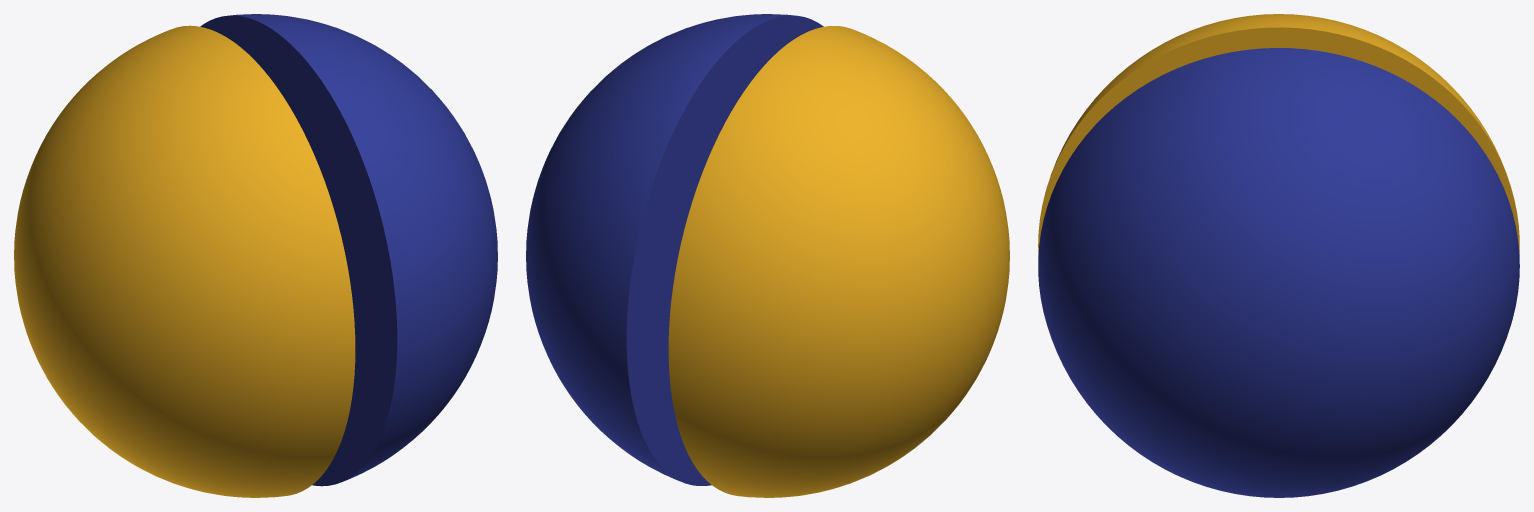
Rendered from sphereMaillage.obj.
3 renders of one model, left to right at view 1: azimuth 30°, elevation 25°; view 2: azimuth 150°, elevation 25°; view 3: azimuth 270°, elevation 25°, orthographic.
Visible parts, largest first — view 1: moitieGauche, moitieDroite; view 2: moitieGauche, moitieDroite; view 3: moitieDroite, moitieGauche.
Boxes of the visible parts, box(x1,y1,x2,y2) form: moitieGauche: box(14, 25, 355, 497); moitieDroite: box(200, 14, 497, 486); moitieGauche: box(668, 26, 1009, 497); moitieDroite: box(526, 14, 823, 485); moitieDroite: box(1038, 48, 1519, 497); moitieGauche: box(1038, 14, 1519, 254).
Bounding box in the file's own units: 20 × 19.9 × 19.9.
